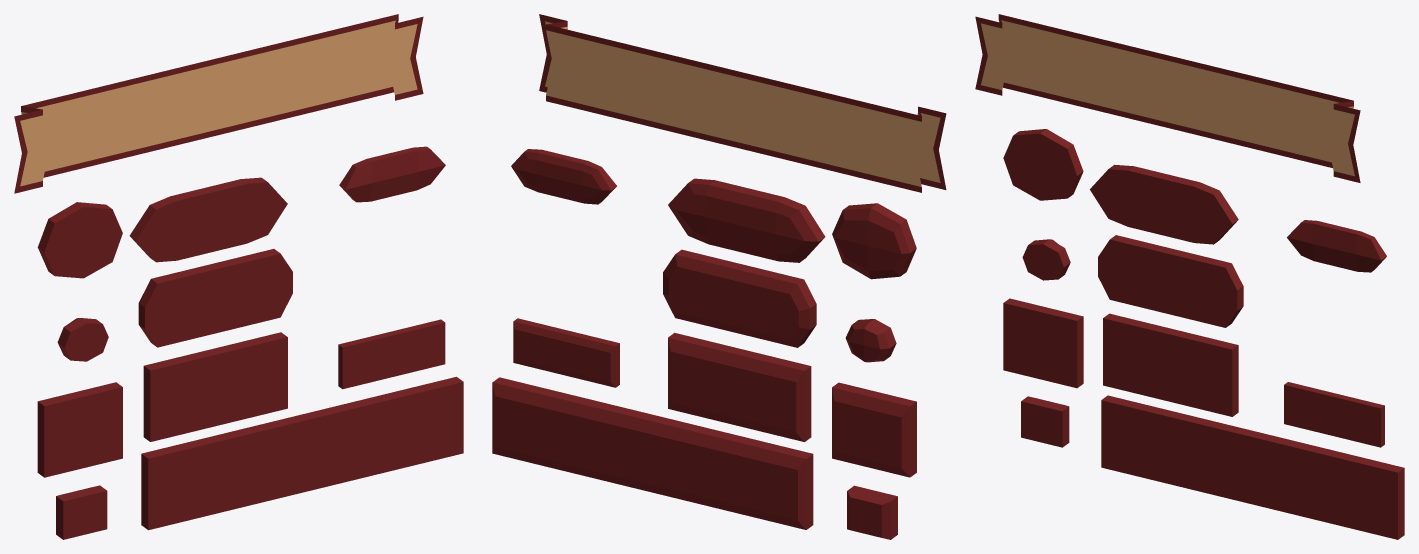
The model's file is MedievalUI.fbx_Scene_Scene_Collection.fbx.
3 views of the same model, side by side, from view 1: azimuth 30°, elevation 25°; view 2: azimuth 150°, elevation 25°; view 3: azimuth 330°, elevation 25° (orthographic). The views are drawn at different scales.
Visible parts, largest first — view 1: Banner, Button.009, Button.001, Button, Button.004, Button.002, Button.005, Button.003, Button.006, Button.007, Button.008; view 2: Banner, Button.009, Button.001, Button, Button.004, Button.002, Button.005, Button.003, Button.006, Button.007, Button.008; view 3: Banner, Button.009, Button.001, Button, Button.004, Button.002, Button.005, Button.003, Button.006, Button.007, Button.008.
Part boxes in pixels (x1,y1,x2,y2): Banner: (14,14,423,193); Button.009: (141,376,463,530); Button.001: (143,332,287,441); Button: (138,249,292,347); Button.004: (129,177,287,262); Button.002: (37,382,122,477); Button.005: (338,319,445,389); Button.003: (37,202,122,278); Button.006: (339,146,445,202); Button.007: (56,485,107,539); Button.008: (57,318,108,361); Banner: (539,14,946,192); Button.009: (492,377,813,529); Button.001: (668,332,811,441); Button: (663,249,816,347); Button.004: (668,178,825,262); Button.002: (832,382,916,477); Button.005: (513,318,619,387); Button.003: (832,203,916,279); Button.006: (511,149,616,204); Button.007: (847,485,897,539); Button.008: (845,319,896,362); Banner: (975,14,1360,182); Button.009: (1101,395,1404,539); Button.001: (1103,313,1238,416); Button: (1098,235,1243,327); Button.004: (1090,164,1238,244); Button.002: (1003,298,1083,388); Button.005: (1284,382,1384,447); Button.003: (1003,129,1083,200); Button.006: (1287,220,1386,272); Button.007: (1021,396,1069,447); Button.008: (1022,239,1070,280).
Size of the model in its own units: 464 by 441 by 18.37.
